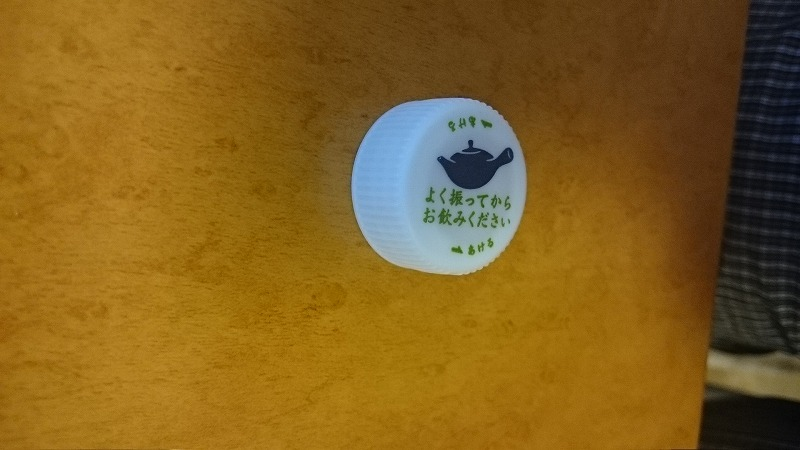A: (340, 85, 538, 286)
